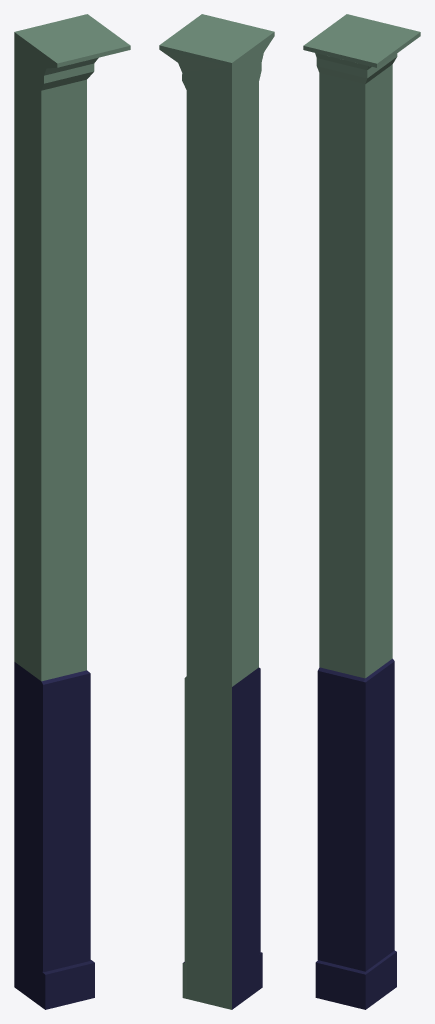
Rendered from wall_corner.fbx.
3 views of the same model, side by side, from view 1: azimuth 30°, elevation 25°; view 2: azimuth 150°, elevation 25°; view 3: azimuth 330°, elevation 25° (orthographic).
Visible parts, largest first — view 1: Cube; view 2: Cube; view 3: Cube.
Boxes of the visible parts, x1,y1,x2,y2 form: Cube: (14, 14, 130, 1009); Cube: (159, 14, 274, 1009); Cube: (303, 14, 420, 1009).
Size of the model in its own units: 24.12 by 300 by 24.63.
